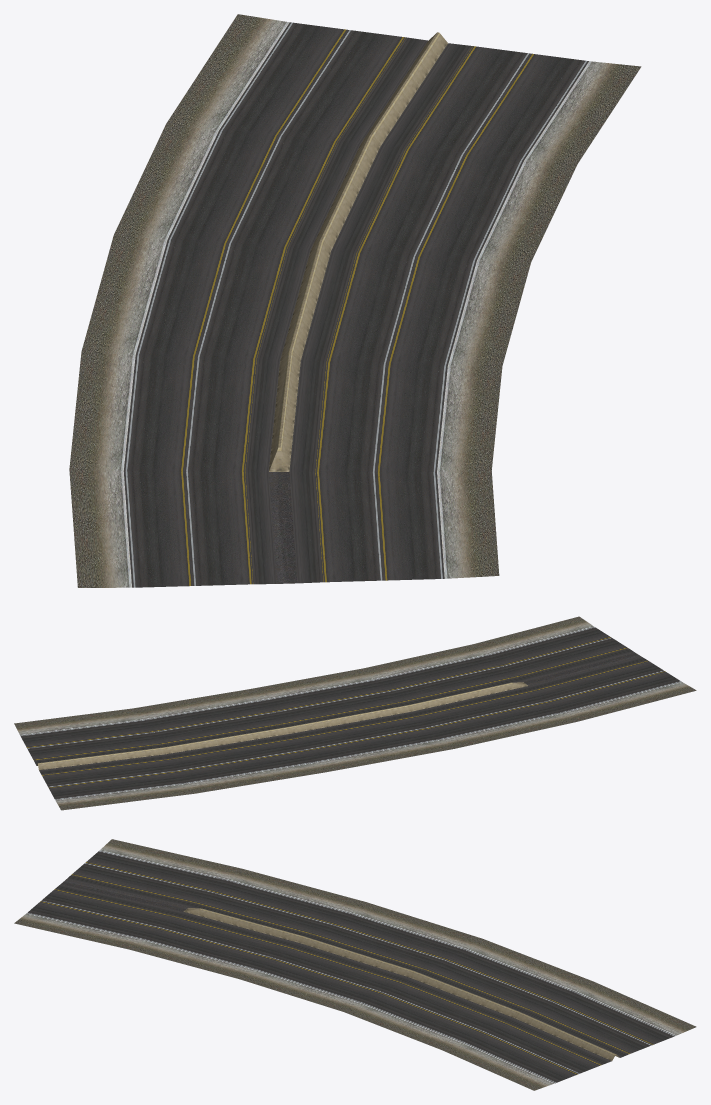
Rendered from vegasnroad032.obj.
The picture shows the model from 3 angles, top to bottom: view 1: azimuth 30°, elevation 25°; view 2: azimuth 150°, elevation 25°; view 3: azimuth 270°, elevation 25°; orthographic projection. The views are drawn at different scales.
Visible parts, largest first — view 1: VegasNroad032; view 2: VegasNroad032; view 3: VegasNroad032.
Part boxes in pixels (x1=…): VegasNroad032: x1=69, y1=14, x2=641, y2=587; VegasNroad032: x1=14, y1=616, x2=696, y2=810; VegasNroad032: x1=14, y1=839, x2=696, y2=1090.
Bounding box in the file's own units: 106 × 1.78 × 123.
4 materials, 4 textured.
